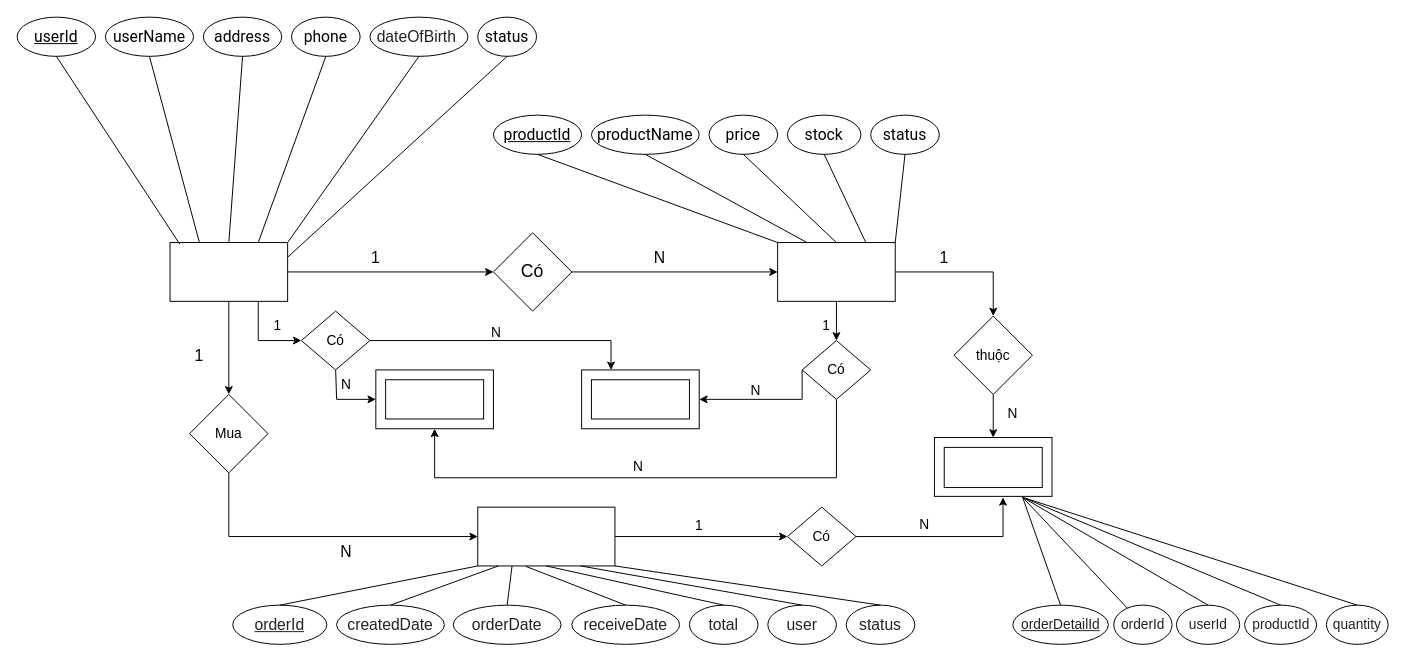
This 1405x662 diagram has some shape labels left out. Here are the shapes that lost their labels. From the top down, the centre of each, then its label:
At pixel 228 271: "users".
At pixel 836 271: "product".
At pixel 434 399: "comment".
At pixel 639 399: "wishlist".
At pixel 992 467: "order detail".
At pixel 546 536: "Order".
